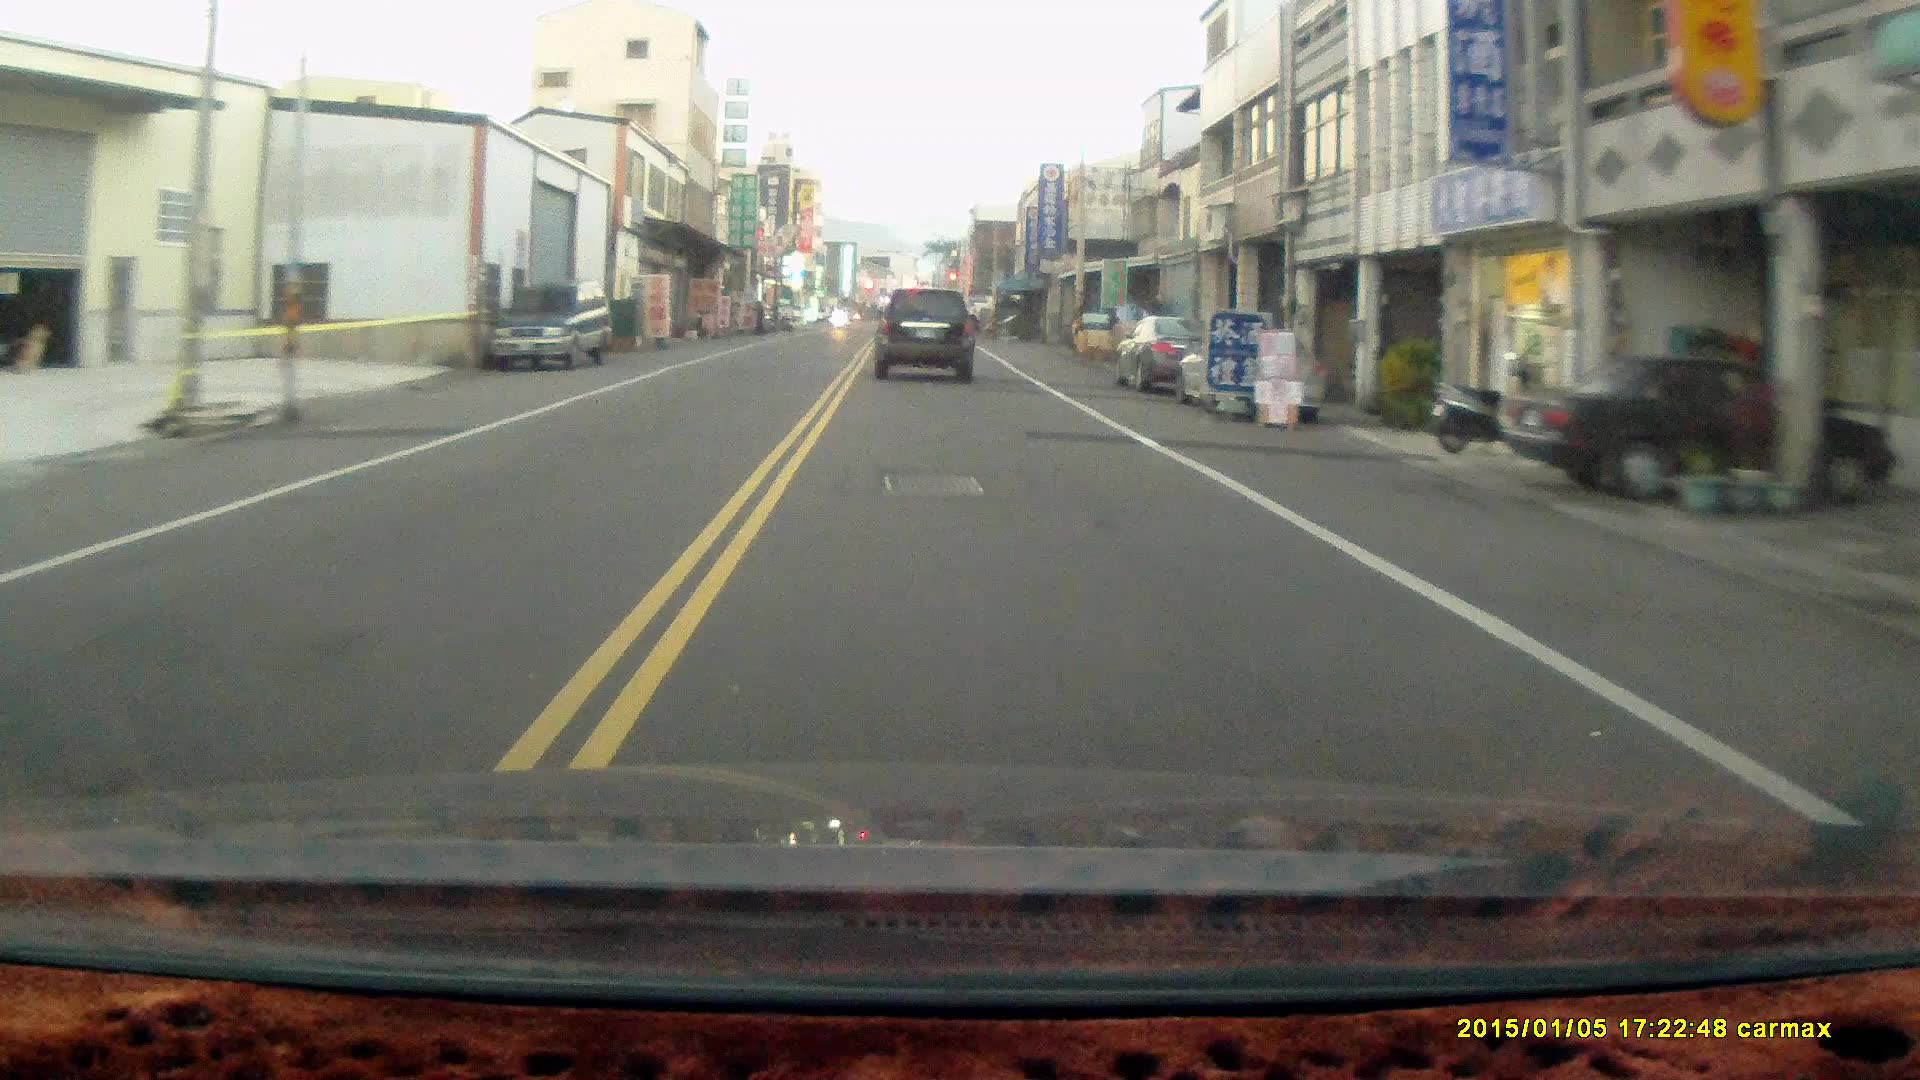vehicle: (1505, 357, 1883, 509), (1176, 328, 1331, 423), (487, 281, 612, 375), (872, 290, 977, 388), (1116, 316, 1236, 394)
